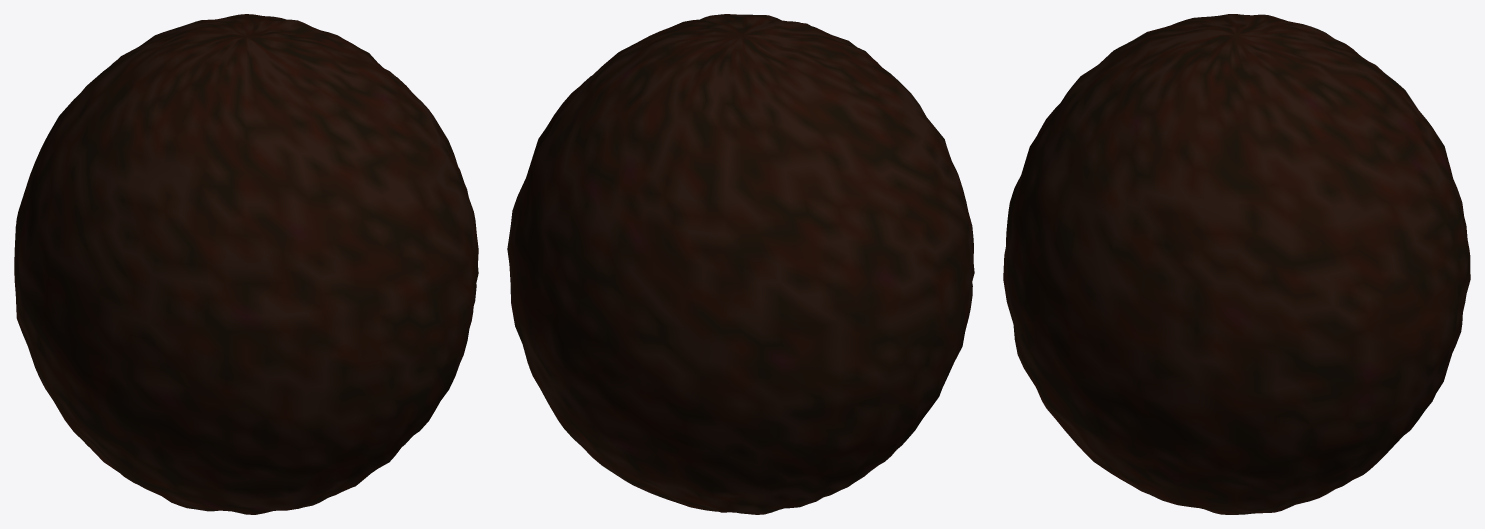
File: coco.glb
3 renders of one model, left to right at view 1: azimuth 30°, elevation 25°; view 2: azimuth 150°, elevation 25°; view 3: azimuth 270°, elevation 25°, orthographic.
Parts seen in each view (by area): view 1: entier_peau, moitie_B_peau, moitie_A_peau; view 2: entier_peau, moitie_A_peau, moitie_B_peau; view 3: entier_peau, moitie_A_peau, moitie_B_peau.
Boxes of the visible parts, x1=… form: entier_peau: x1=14, y1=14, x2=478, y2=514; moitie_B_peau: x1=44, y1=33, x2=478, y2=514; moitie_A_peau: x1=15, y1=14, x2=354, y2=448; entier_peau: x1=507, y1=14, x2=974, y2=514; moitie_A_peau: x1=508, y1=31, x2=943, y2=514; moitie_B_peau: x1=640, y1=15, x2=973, y2=457; entier_peau: x1=1003, y1=14, x2=1470, y2=514; moitie_A_peau: x1=1237, y1=14, x2=1470, y2=514; moitie_B_peau: x1=1003, y1=14, x2=1236, y2=514.
Size of the model in its own units: 1.85 by 2.01 by 1.85.
